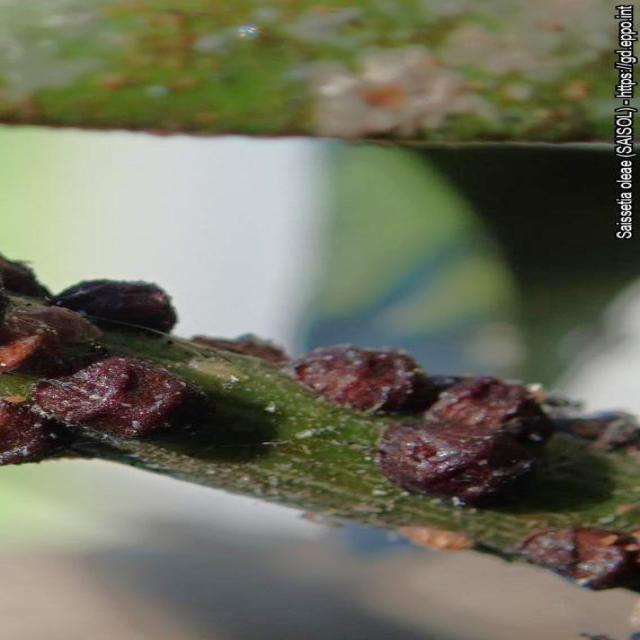Black Scale: (295, 347, 551, 505), (0, 357, 202, 468), (0, 292, 105, 377), (517, 527, 639, 590), (54, 279, 177, 333)
